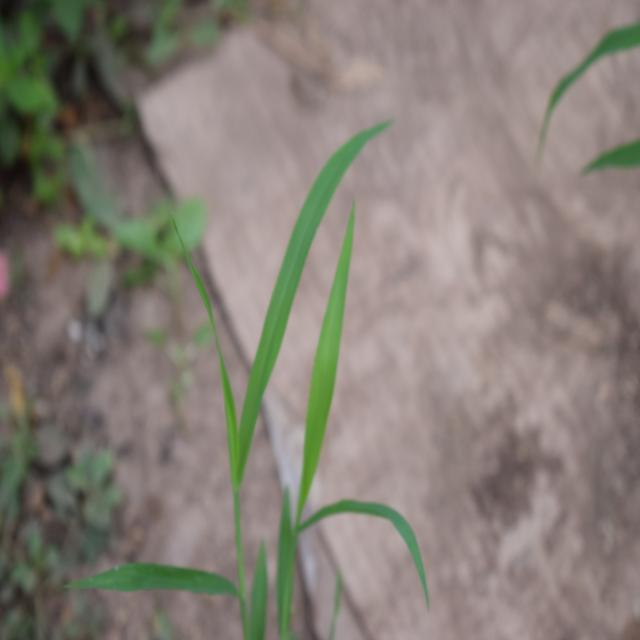crabgrass: (159, 128, 438, 594)
